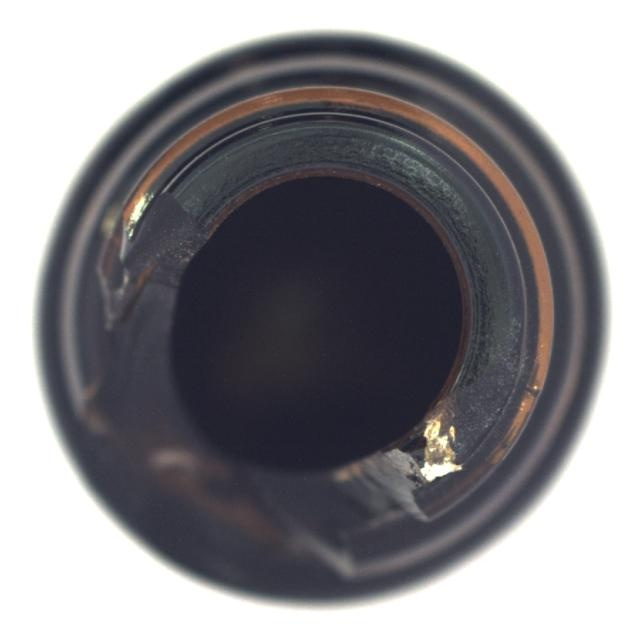bad-broken_large: (33, 31, 611, 613)
